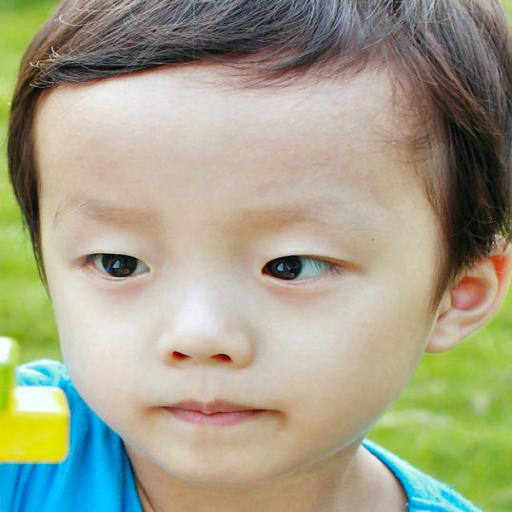Autism: (8, 7, 512, 508)
